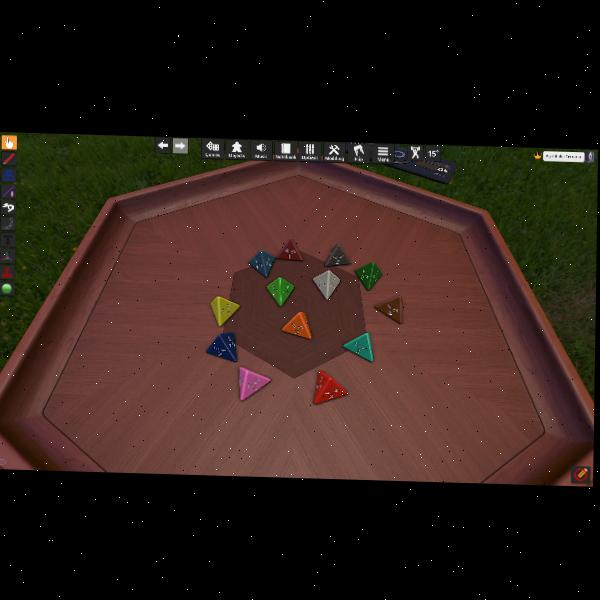d4: (238, 366, 271, 401), (313, 370, 346, 404), (343, 330, 373, 361), (210, 295, 239, 327), (206, 332, 236, 362), (266, 276, 294, 307), (354, 261, 382, 291), (248, 249, 276, 278), (282, 311, 311, 339), (313, 269, 339, 300), (374, 294, 401, 323), (276, 236, 303, 261), (325, 241, 350, 267)
